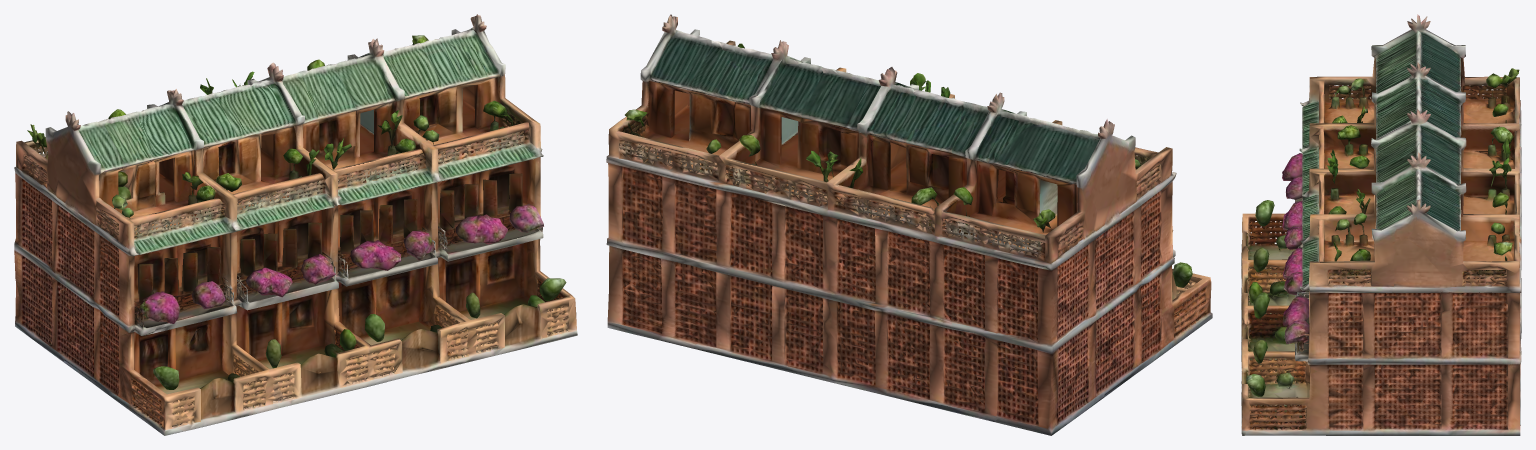
The model's file is townlo.glb.
3 views of the same model, side by side, from view 1: azimuth 30°, elevation 25°; view 2: azimuth 150°, elevation 25°; view 3: azimuth 270°, elevation 25° (orthographic). The views are drawn at different scales.
Parts seen in each view (by area): view 1: tripo_node_ed0b0563-4478-465d-8639-bf4954c6f9f9; view 2: tripo_node_ed0b0563-4478-465d-8639-bf4954c6f9f9; view 3: tripo_node_ed0b0563-4478-465d-8639-bf4954c6f9f9.
Part boxes in pixels (x1,y1,x2,y2): tripo_node_ed0b0563-4478-465d-8639-bf4954c6f9f9: [14, 14, 577, 435]; tripo_node_ed0b0563-4478-465d-8639-bf4954c6f9f9: [606, 14, 1212, 435]; tripo_node_ed0b0563-4478-465d-8639-bf4954c6f9f9: [1241, 14, 1521, 435].
Size of the model in its own units: 0.9995 by 0.5845 by 0.6284.
Materials: 1 (1 with a texture image).
